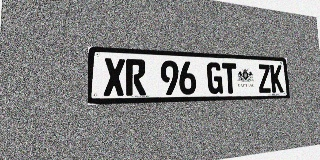6: (179, 61, 196, 95)
9: (160, 60, 179, 95)
G: (207, 62, 223, 94)
K: (270, 65, 284, 93)
R: (126, 59, 146, 96)
T: (222, 63, 238, 94)
X: (104, 58, 125, 96)
Z: (257, 64, 272, 93)
